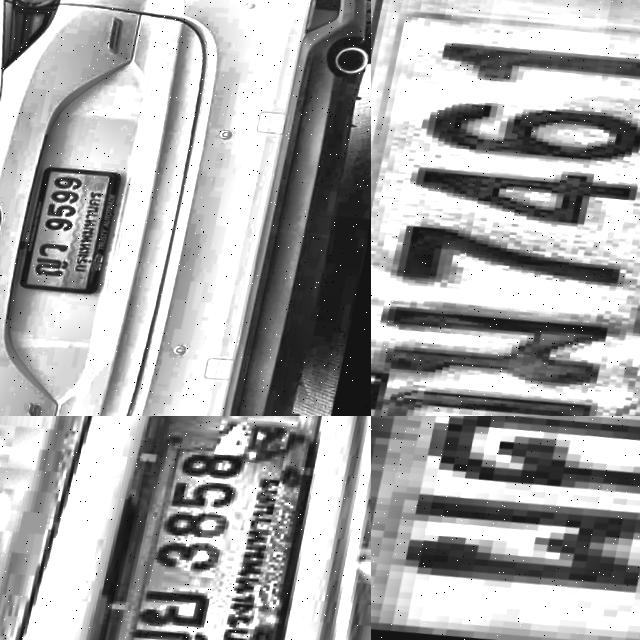license-plate: (371, 0, 640, 416), (371, 416, 640, 640), (108, 416, 325, 640), (21, 166, 129, 300)
